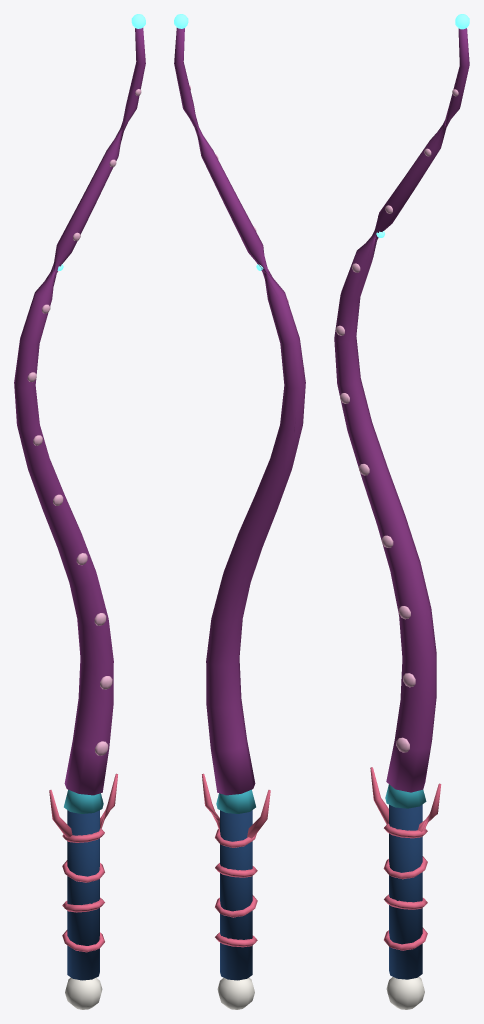
File: 10_abyss_whip.fbx
3 views of the same model, side by side, from view 1: azimuth 30°, elevation 25°; view 2: azimuth 150°, elevation 25°; view 3: azimuth 330°, elevation 25° (orthographic). The views are drawn at different scales.
Parts seen in each view (by area): view 1: Weapon; view 2: Weapon; view 3: Weapon.
Part boxes in pixels (x1,y1,x2,y2): Weapon: (14,14,145,1009); Weapon: (174,14,305,1009); Weapon: (334,14,469,1009).
Size of the model in its own units: 23.35 by 168 by 6.91.
2 materials, 1 textured.
